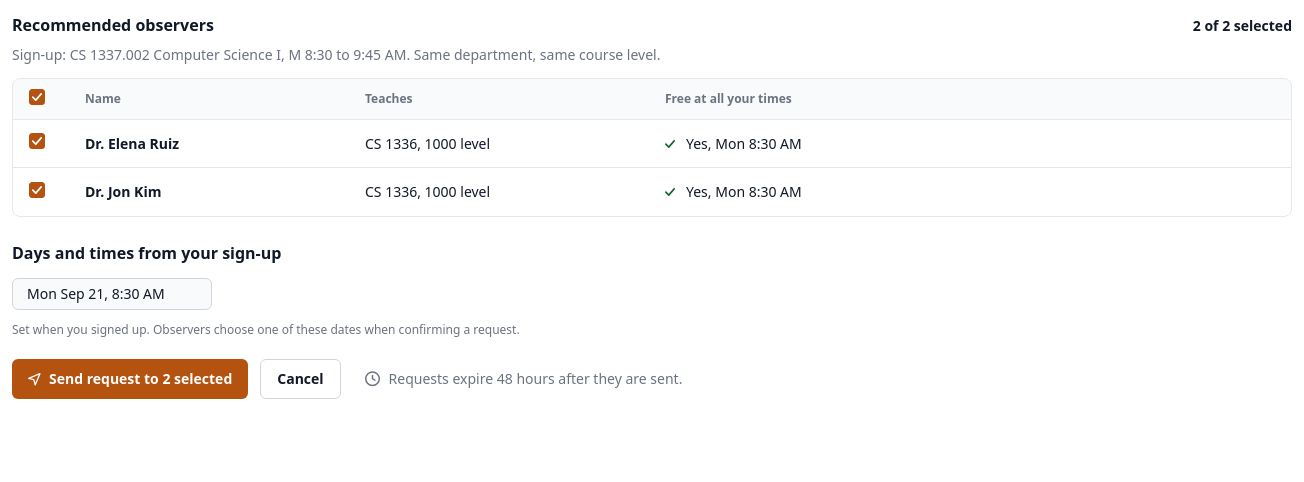
Scenario: names the observers with no free proposed time when the server refuses the send
The width and height of the screenshot is (1304, 482).
Check: the text "2 of 2 selected" is shown, box [1193,16,1292,36]
Click the button "Send request to 2 selected" at (130, 379), box [12,359,248,399]
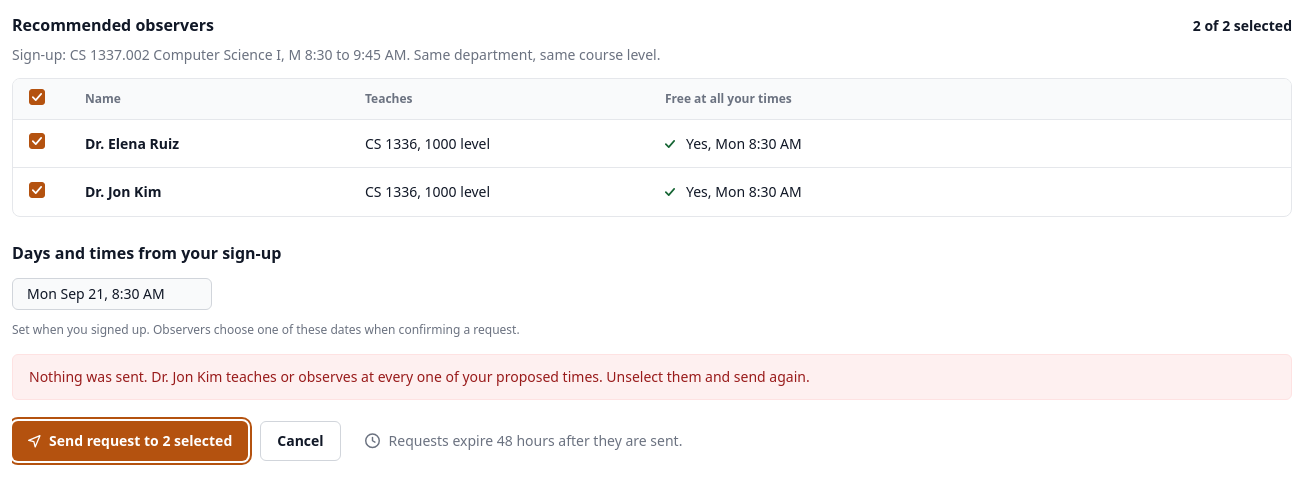
Check: the message shows "Nothing was sent. Dr. Jon Kim teaches or observes at every one of your proposed times. Unselect them and send again.", box [29,367,810,386]
